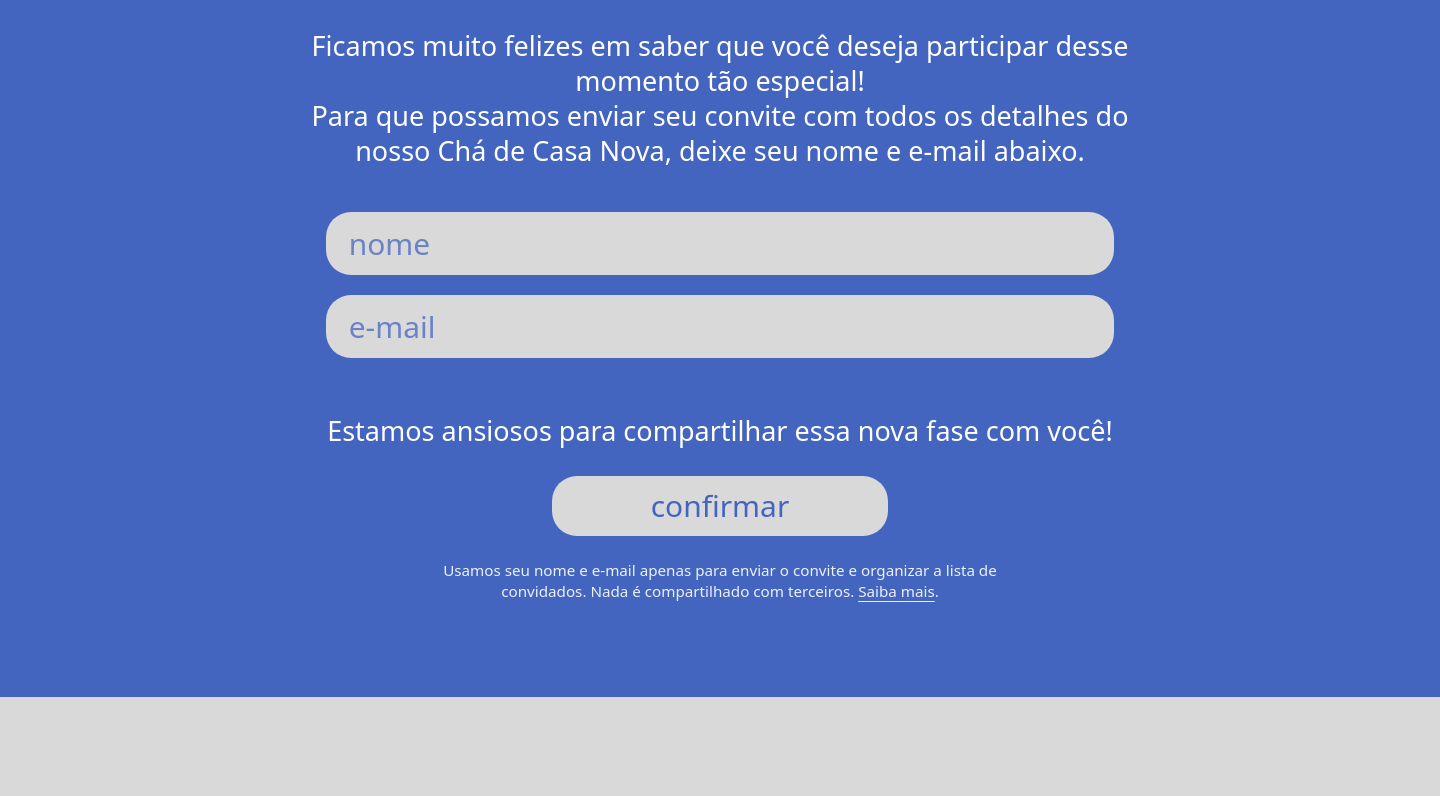
Test: fluxo de presença › valida os campos antes de enviar
(page scrolled)
Click the button "confirmar" at (720, 506), box [552,476,888,536]
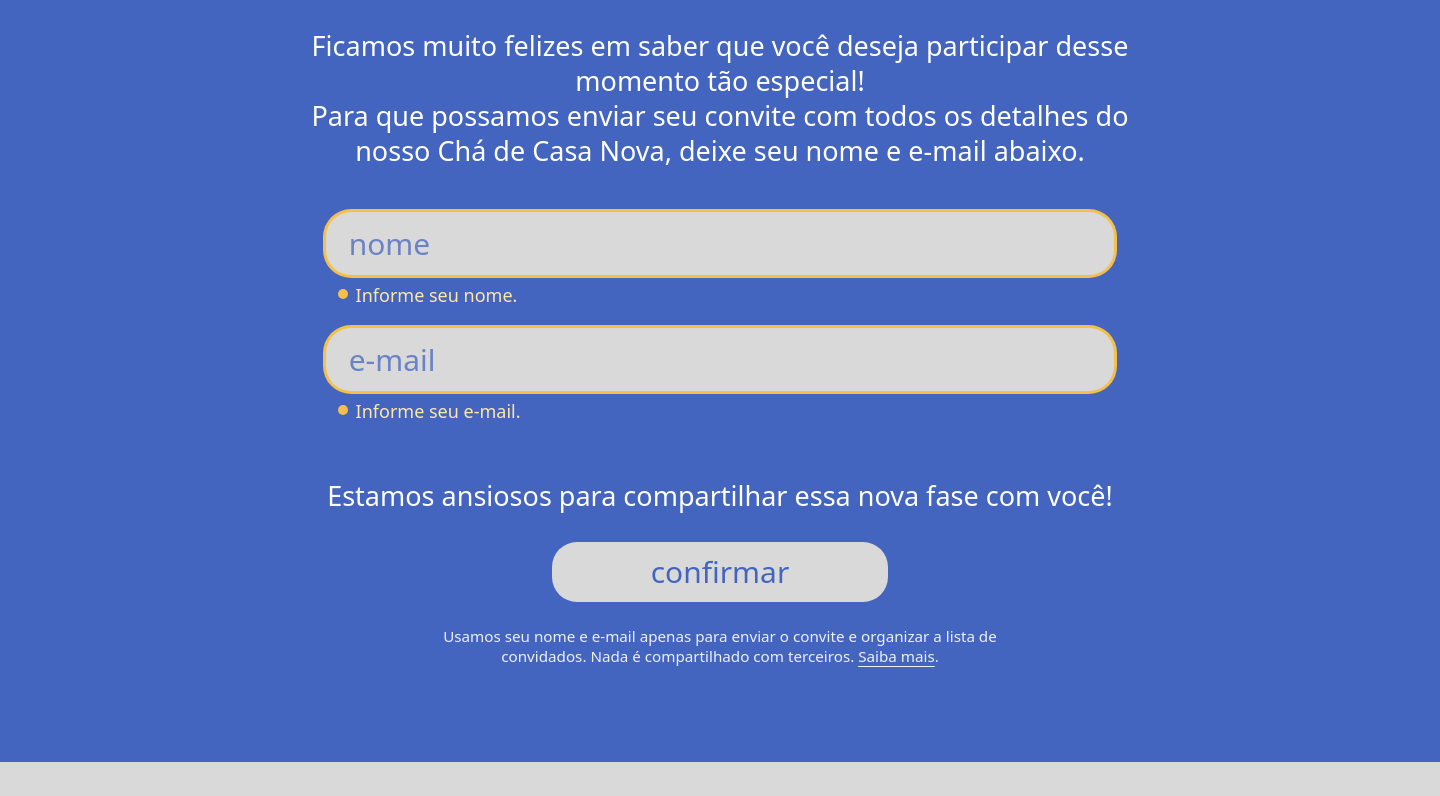
Result: the text "Informe seu nome." is shown at [338,283,517,307]
Result: the text "Informe seu e-mail." is shown at [338,399,521,423]
